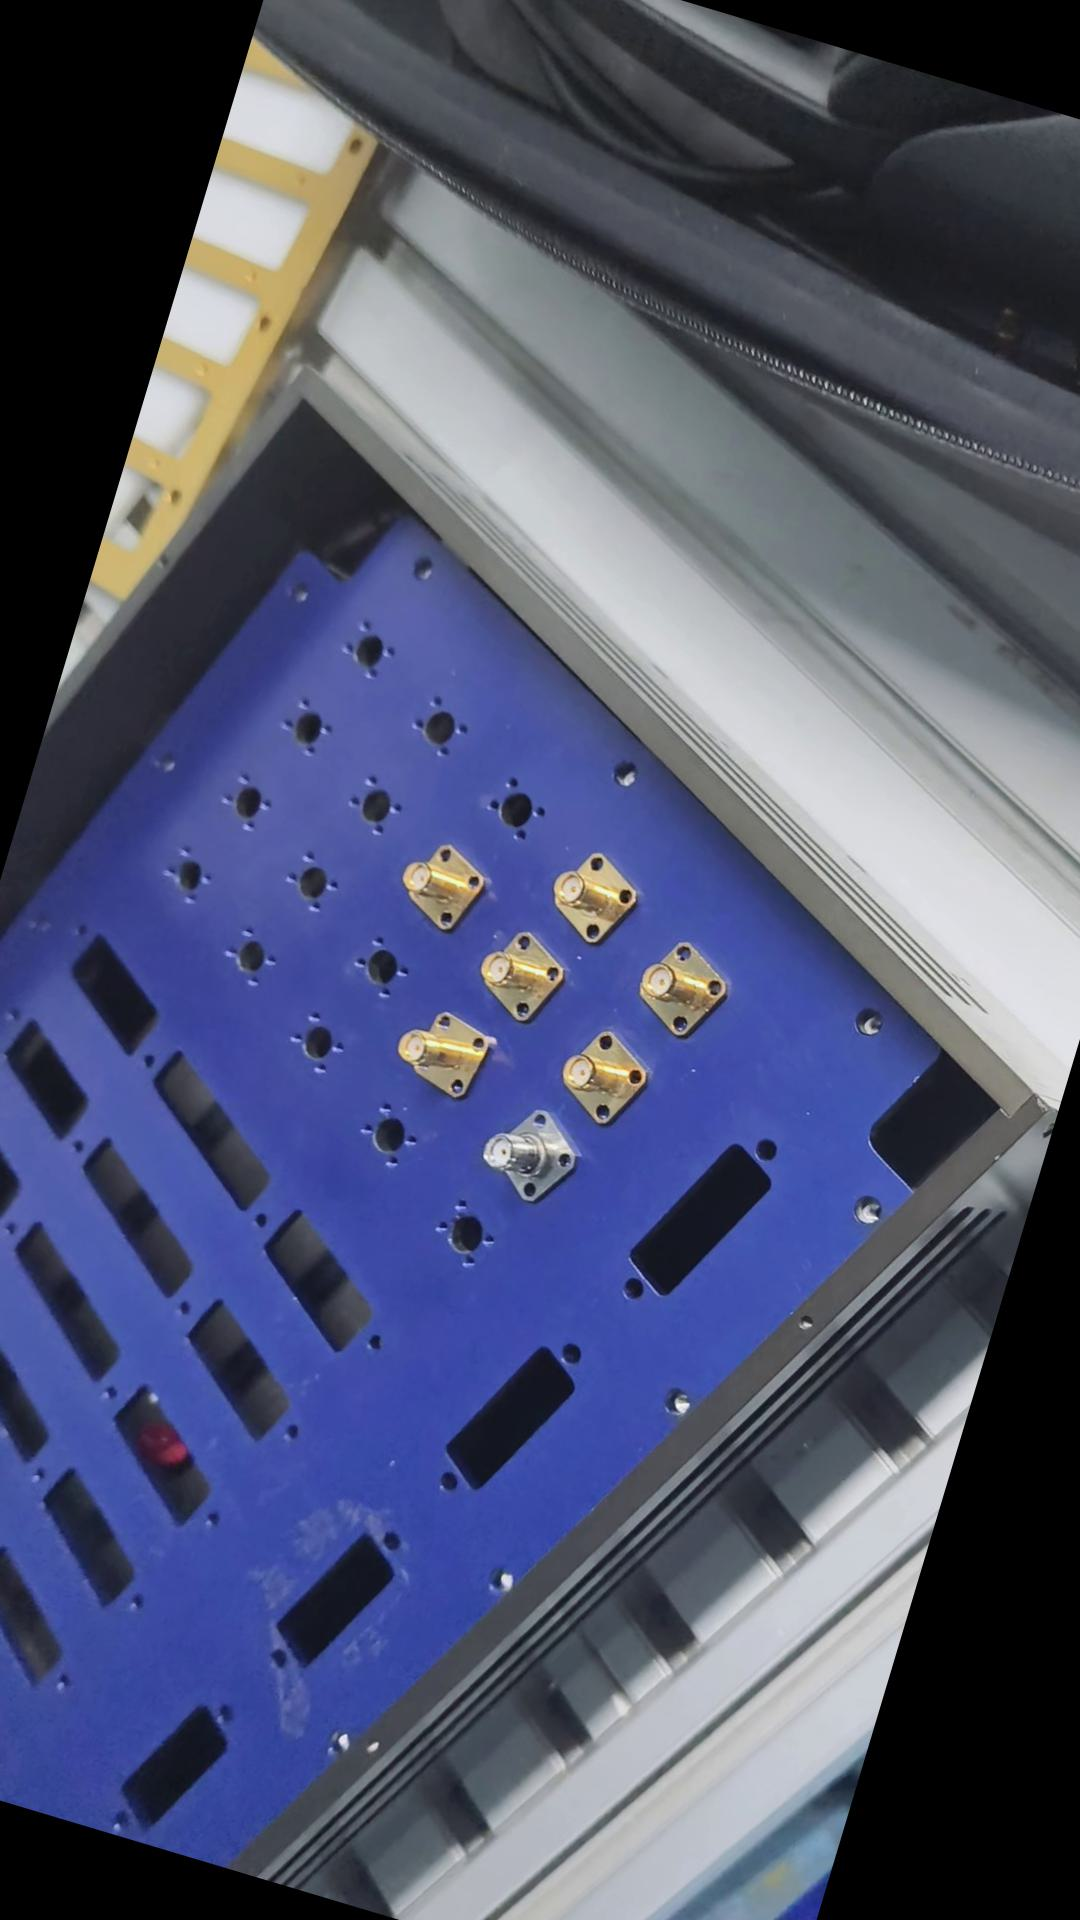SMA: (468, 1089, 595, 1216), (625, 923, 748, 1048), (539, 1011, 663, 1134), (460, 918, 576, 1034), (535, 837, 644, 948), (386, 832, 495, 942), (392, 1004, 497, 1102)
